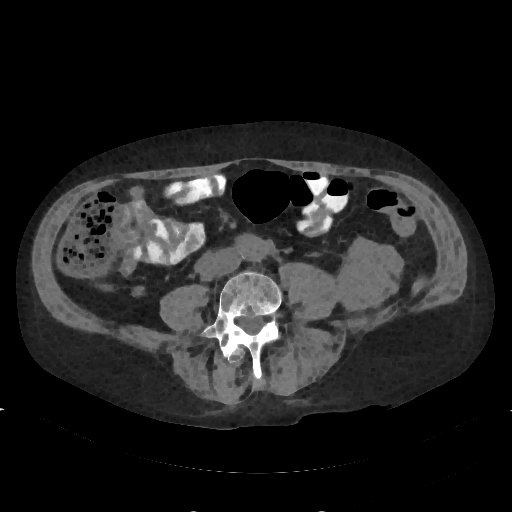Lesion: (332, 229, 407, 312)
